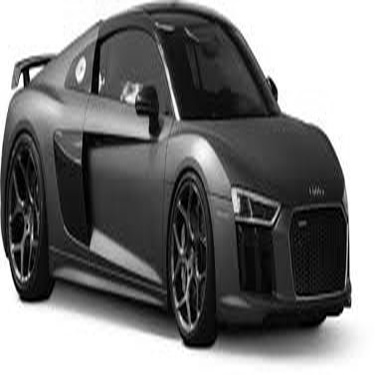car: (2, 1, 356, 350)
